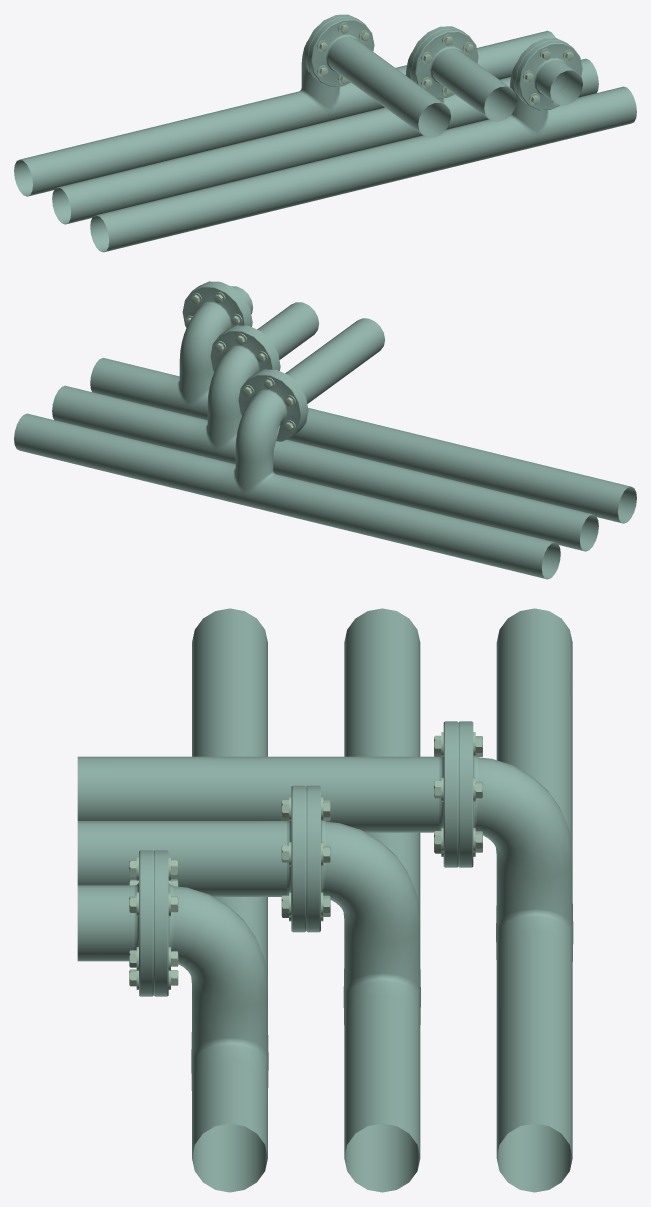
File: PipeComplexLarge_A3_03.fbx
3 renders of one model, top to bottom at view 1: azimuth 30°, elevation 25°; view 2: azimuth 150°, elevation 25°; view 3: azimuth 270°, elevation 25°, orthographic. The views are drawn at different scales.
Parts seen in each view (by area): view 1: PipeComplexLarge_A3_03.001; view 2: PipeComplexLarge_A3_03.001; view 3: PipeComplexLarge_A3_03.001.
Part boxes in pixels (x1,y1,x2,y2): PipeComplexLarge_A3_03.001: (14, 14, 636, 252); PipeComplexLarge_A3_03.001: (14, 281, 636, 579); PipeComplexLarge_A3_03.001: (77, 608, 573, 1192).
Bounding box in the file's own units: 3.2 × 0.6923 × 1.3.
